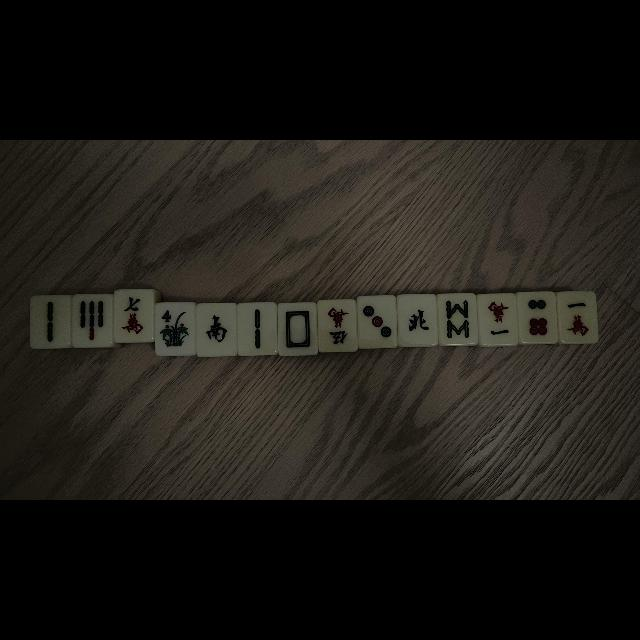b2: (31, 296, 70, 348), (238, 304, 276, 352)
b7: (72, 295, 111, 345)
b8: (439, 295, 475, 343)
c1: (558, 292, 598, 342), (478, 294, 516, 344)
c5: (318, 300, 356, 352)
c7: (115, 290, 154, 340)
d3: (358, 296, 396, 348)
d6: (518, 293, 556, 343)
dw: (279, 304, 317, 354)
f4-s: (156, 303, 194, 355)
wn: (398, 296, 436, 346)
ws: (197, 303, 237, 355)
